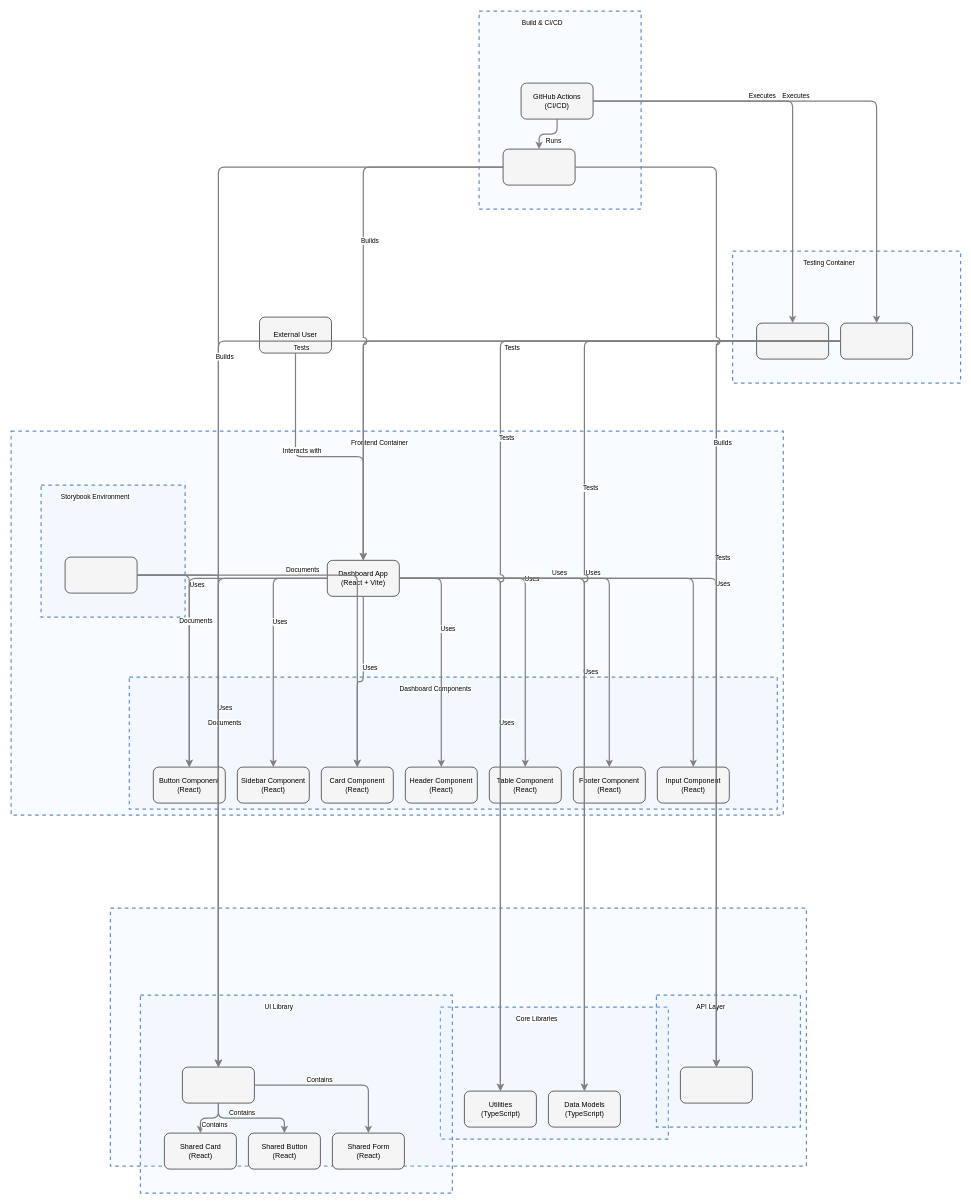
Some shapes in this 971 by 1204 pixel diagram are drawn without their labels. Here are the shapes that lost their labels. From the top down, the centre of each, then its label:
At point (538, 166): "Nx Build System (Nx)".
At point (792, 340): "E2E Tests (Playwright)".
At point (876, 340): "Unit Tests (Vitest)".
At point (100, 574): "Storybook Interface (Storybook)".
At point (458, 1036): "Shared Libraries Container".
At point (218, 1084): "Shared UI (React)".
At point (716, 1084): "API Client (TypeScript)".
